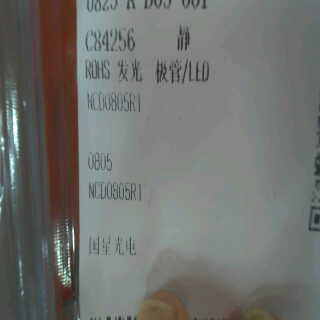LED: (110, 57, 217, 84)
